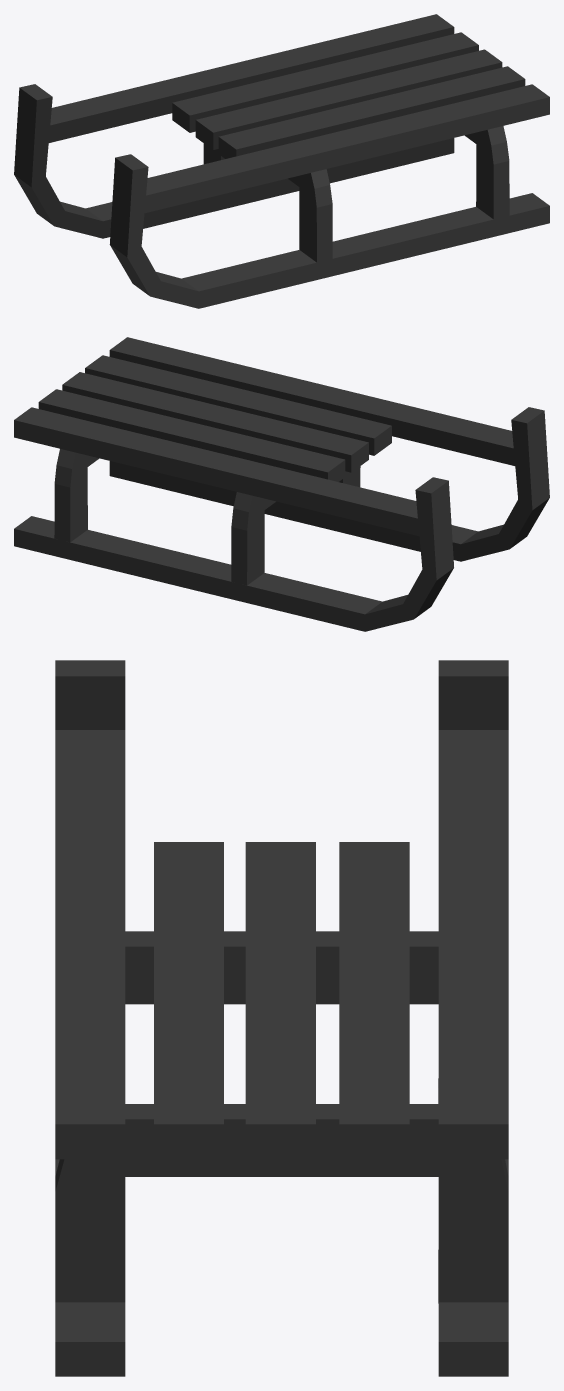
Rendered from Sledge_Alt3.fbx.
The picture shows the model from 3 angles, top to bottom: view 1: azimuth 30°, elevation 25°; view 2: azimuth 150°, elevation 25°; view 3: azimuth 270°, elevation 25°; orthographic projection. The views are drawn at different scales.
Parts seen in each view (by area): view 1: Sledge_Alt3; view 2: Sledge_Alt3; view 3: Sledge_Alt3.
Part boxes in pixels (x1,y1,x2,y2): Sledge_Alt3: [14, 14, 549, 308]; Sledge_Alt3: [14, 337, 549, 631]; Sledge_Alt3: [55, 660, 508, 1376].
Size of the model in its own units: 0.6373 by 0.2228 by 0.296.
